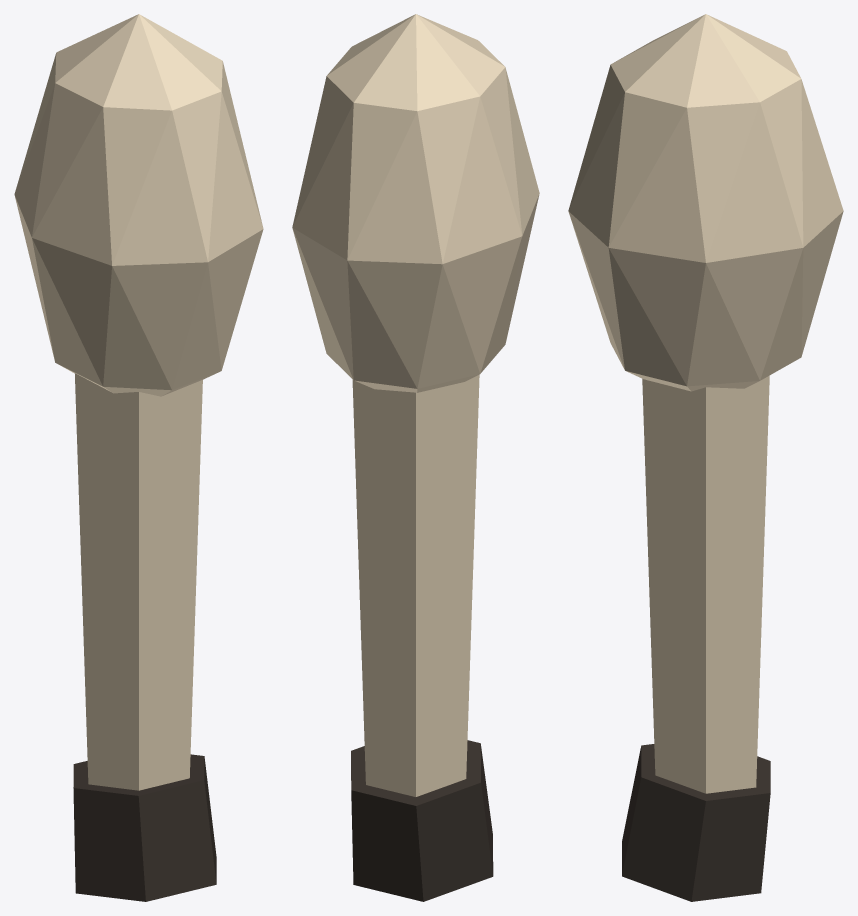
Rendered from calf_1_leg_fr.glb.
3 views of the same model, side by side, from view 1: azimuth 30°, elevation 25°; view 2: azimuth 150°, elevation 25°; view 3: azimuth 270°, elevation 25° (orthographic).
Visible parts, largest first — view 1: calf_1_leg_fr; view 2: calf_1_leg_fr; view 3: calf_1_leg_fr.
Part boxes in pixels (x1,y1,x2,y2): calf_1_leg_fr: [14, 14, 263, 901]; calf_1_leg_fr: [292, 14, 539, 901]; calf_1_leg_fr: [568, 14, 843, 901].
Bounding box in the file's own units: 0.1088 × 0.4201 × 0.1216.
